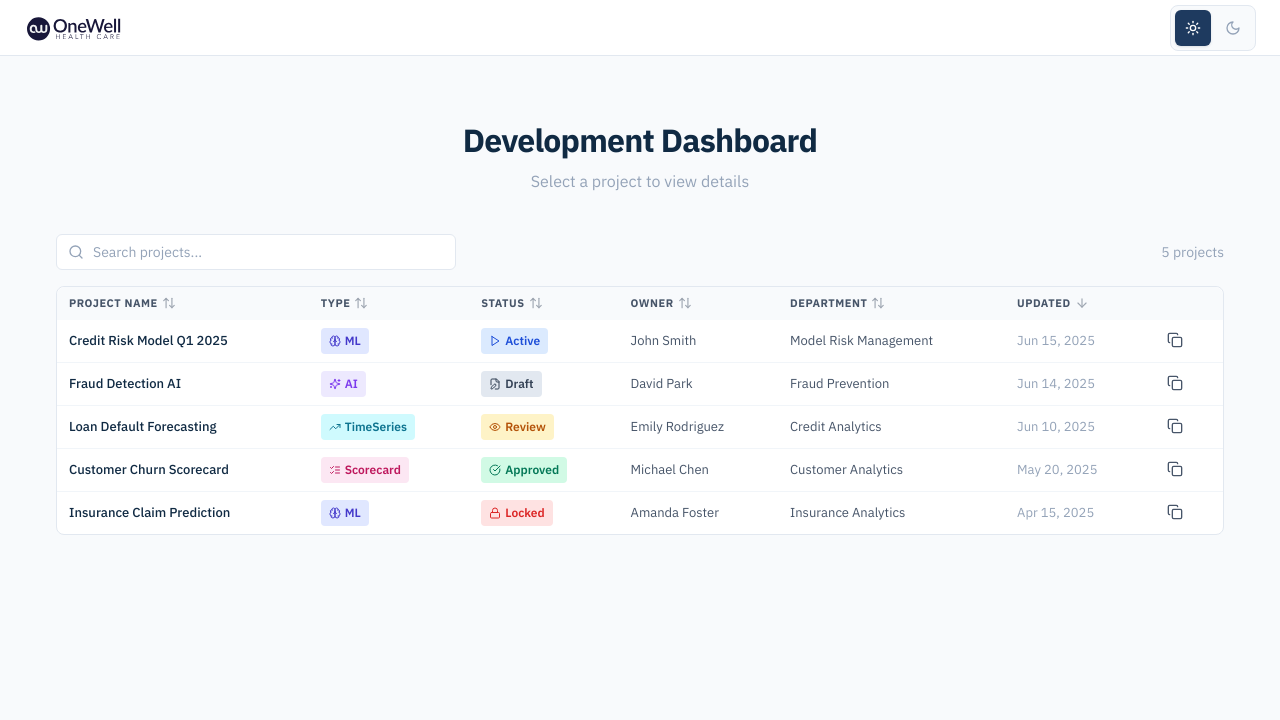
Scenario: Project Selector › Search Functionality › should filter projects when searching
// Type a search term (use a partial term that might match some projects)
Type "ML" into the field with placeholder "Search projects..." at point(256, 252), box x1=56 y1=234 x2=456 y2=270
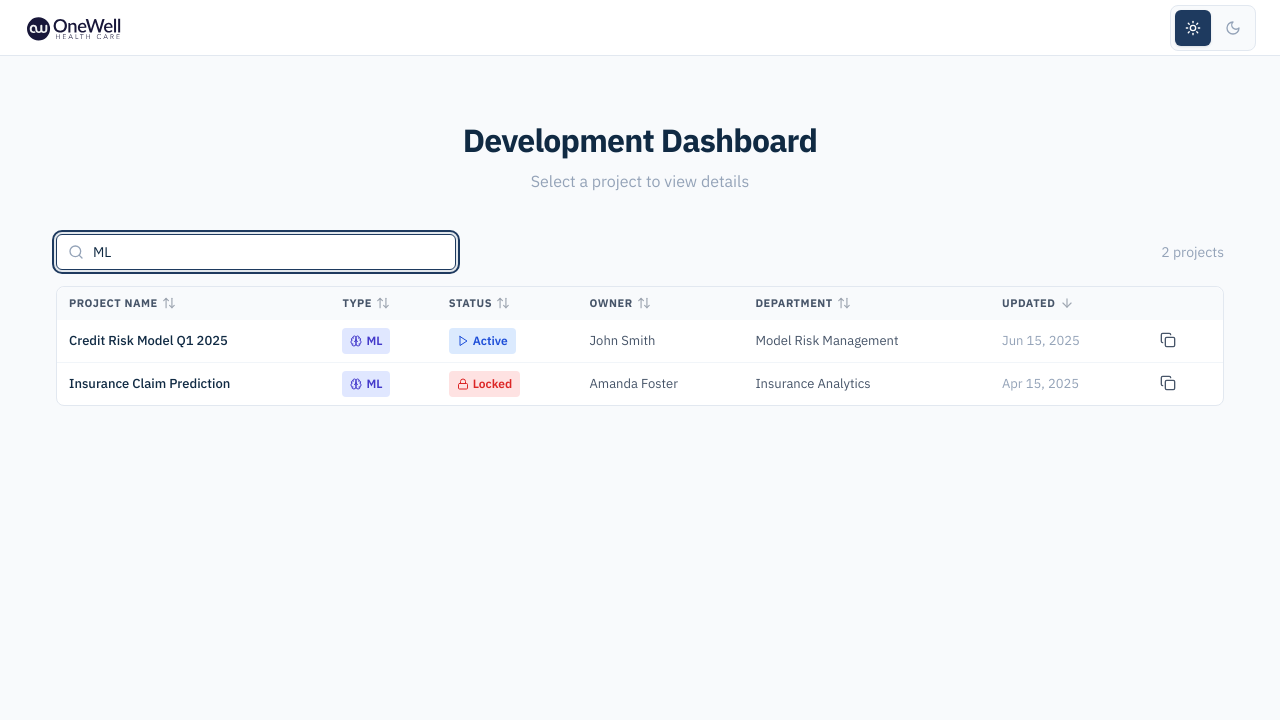
Expected: the number of rows is at most 5
